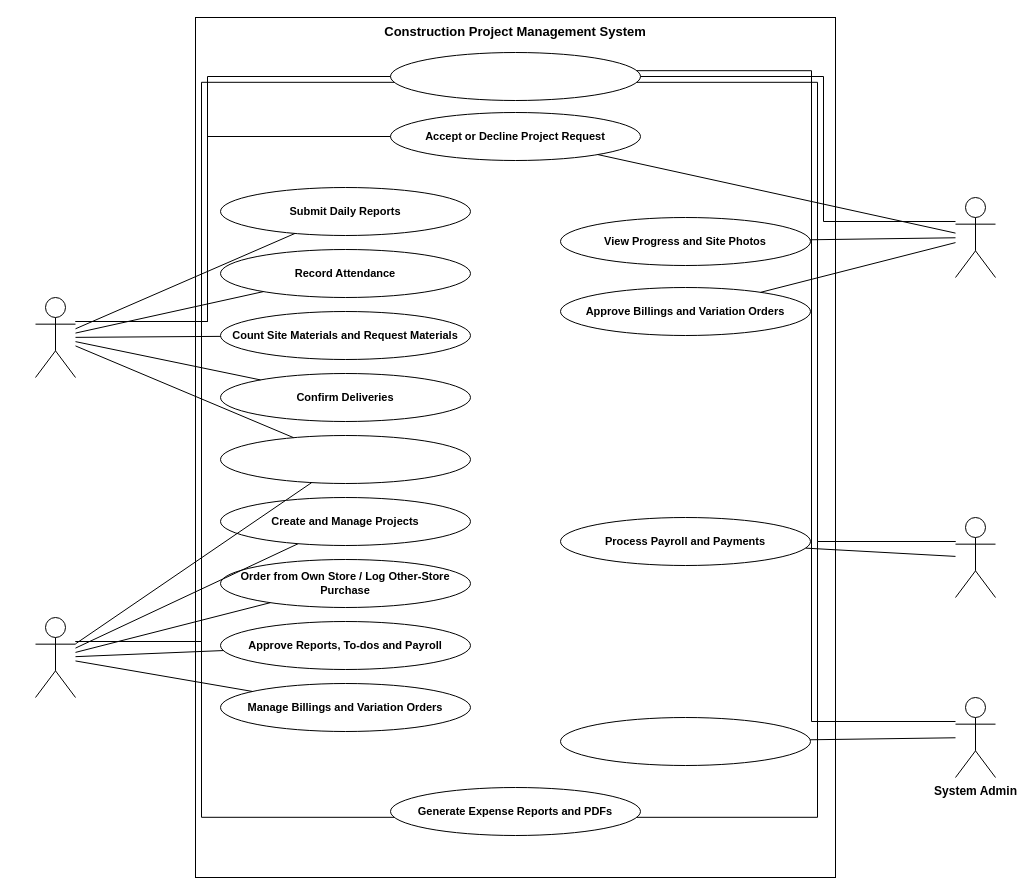
The diagram is 1034 pixels wide and 895 high, and some of its shapes have lost their labels. The centre of each missing label's shape, as x and y in pixels:
Accountant: pixel 975 557
Client: pixel 975 237
Log in / Authenticate: pixel 515 76
Manage Schedule and To-dos: pixel 345 459
Manage Users, Master Lists; Review Audit Log: pixel 685 741
Owner / PM: pixel 55 657
Site Engineer: pixel 55 337
